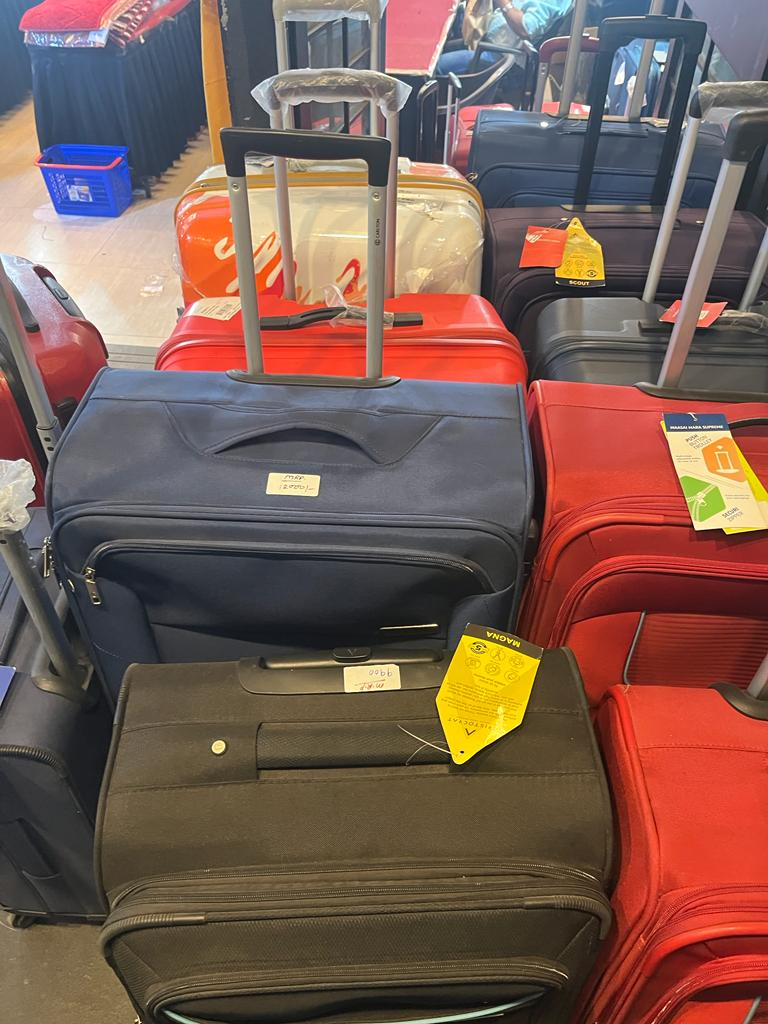Bag: (48, 126, 531, 630), (65, 651, 628, 1024), (541, 113, 768, 665), (609, 675, 768, 1024)
Handle: (216, 126, 409, 388), (650, 64, 768, 401), (252, 68, 418, 305), (571, 4, 715, 211)
